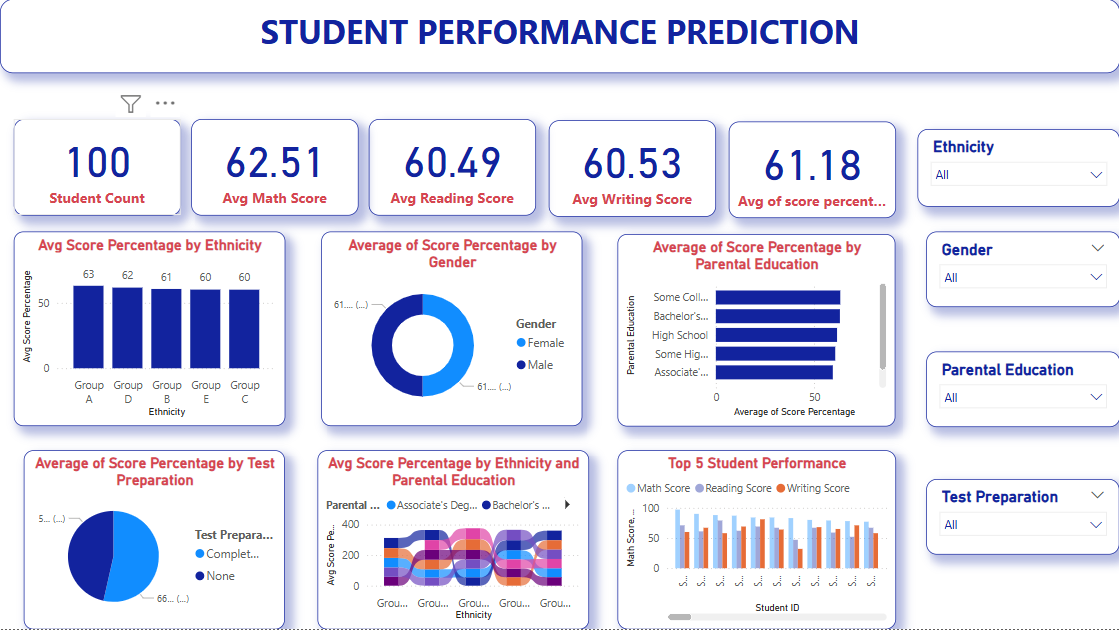

The page's visual inventory and layout, read from the dashboard file:
{"tool":"powerbi","page":{"name":"All subject dashboard","canvas":[1280,720],"ordinal":0},"visuals":[{"type":"card","fields":{"Values":["Count(marks.Student ID)"]},"box":[15.7,137.1,191.4,110],"z":0},{"type":"textbox","box":[0,0,1280.3,85.1],"z":1000},{"type":"card","fields":{"Values":["Avg(marks.Writing Score)"]},"box":[627.1,138.6,191.4,110],"z":2000},{"type":"card","fields":{"Values":["Avg(marks.Reading Score)"]},"box":[421.4,137.1,191.4,110],"z":3000},{"type":"card","fields":{"Values":["Avg(marks.Math Score)"]},"box":[218.6,137.1,191.4,110],"z":4000},{"type":"slicer","fields":{"Values":["marks.Ethnicity"]},"box":[1048.6,148.6,231.4,88.6],"z":5000},{"type":"slicer","fields":{"Values":["marks.Gender"]},"box":[1058.8,266.2,221.2,86.2],"z":6000},{"type":"card","fields":{"Values":["Avg(marks.Score Percentage)"]},"box":[832.9,140,191.4,110],"z":7000},{"type":"slicer","fields":{"Values":["marks.Parental Education"]},"box":[1058.8,402.5,221.2,86.2],"z":8000},{"type":"columnChart","fields":{"Category":["marks.Ethnicity"],"Y":["Avg(marks.Score Percentage)"]},"box":[16.2,266.2,310,222.5],"z":9000},{"type":"donutChart","fields":{"Category":["marks.Gender"],"Y":["Avg(marks.Score Percentage)"]},"box":[367.5,266.2,298.8,222.5],"z":10000},{"type":"clusteredBarChart","fields":{"Category":["marks.Parental Education"],"Y":["Avg(marks.Score Percentage)"]},"box":[706.2,268.8,317.5,220],"z":11000},{"type":"pieChart","fields":{"Category":["marks.Test Preparation"],"Y":["Avg(marks.Score Percentage)"]},"box":[27.5,515,298.8,205],"z":12000},{"type":"ribbonChart","fields":{"Category":["marks.Ethnicity"],"Y":["Avg(marks.Score Percentage)"],"Series":["marks.Parental Education"]},"box":[362.5,515,310,205],"z":12001},{"type":"slicer","fields":{"Values":["marks.Test Preparation"]},"box":[1058.9,548.9,221.1,86.7],"z":12002},{"type":"clusteredColumnChart","title":"Top 5 Student Performance","fields":{"Y":["Avg(marks.Math Score)","Avg(marks.Reading Score)","Avg(marks.Writing Score)"],"Category":["marks.Student ID"]},"box":[706,515,318,205],"z":12003}]}

Visuals, with their boxes in screenshot pixels (x1, y1, x2, y2), scaled from the page's 1280x720 canvas onto the 1119x630 screenshot:
card - Count(marks.Student ID): crop(14, 120, 181, 216)
textbox: crop(0, 0, 1118, 74)
card - Avg(marks.Writing Score): crop(548, 121, 716, 218)
card - Avg(marks.Reading Score): crop(368, 120, 536, 216)
card - Avg(marks.Math Score): crop(191, 120, 358, 216)
slicer - marks.Ethnicity: crop(917, 130, 1118, 208)
slicer - marks.Gender: crop(926, 233, 1118, 308)
card - Avg(marks.Score Percentage): crop(728, 122, 895, 219)
slicer - marks.Parental Education: crop(926, 352, 1118, 428)
columnChart - marks.Ethnicity x Avg(marks.Score Percentage): crop(14, 233, 285, 428)
donutChart - marks.Gender x Avg(marks.Score Percentage): crop(321, 233, 582, 428)
clusteredBarChart - marks.Parental Education x Avg(marks.Score Percentage): crop(617, 235, 895, 428)
pieChart - marks.Test Preparation x Avg(marks.Score Percentage): crop(24, 451, 285, 629)
ribbonChart - marks.Ethnicity x Avg(marks.Score Percentage): crop(317, 451, 588, 629)
slicer - marks.Test Preparation: crop(926, 480, 1118, 556)
"Top 5 Student Performance" clusteredColumnChart: crop(617, 451, 895, 629)
